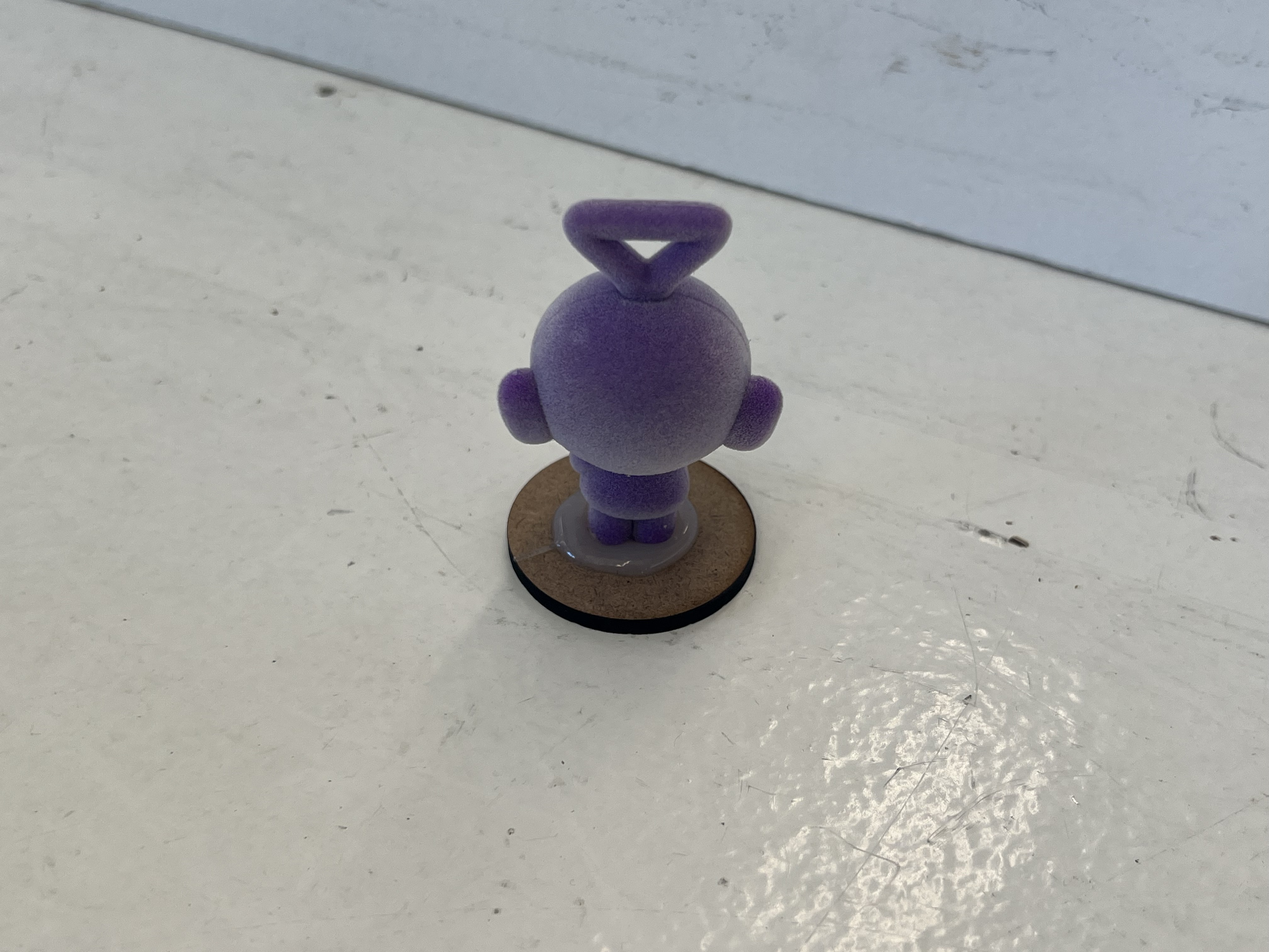teletubby: (498, 199, 782, 544)
